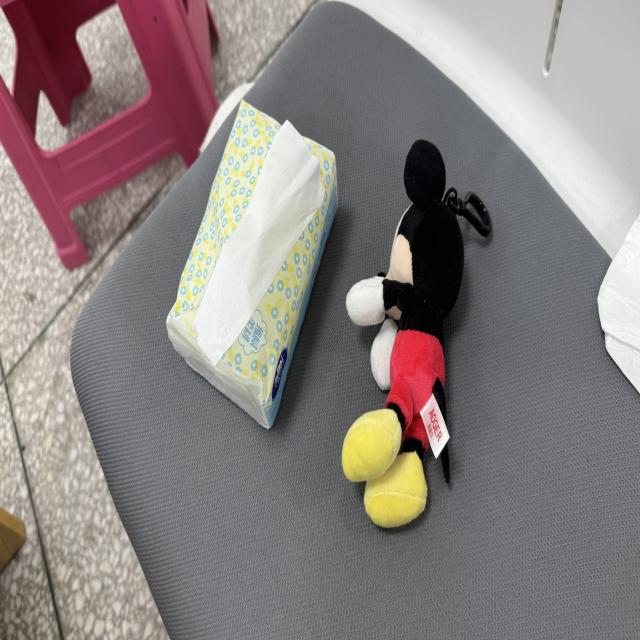mickey: (343, 141, 490, 527)
tissue: (167, 102, 337, 427), (193, 121, 325, 363), (598, 218, 639, 392)
